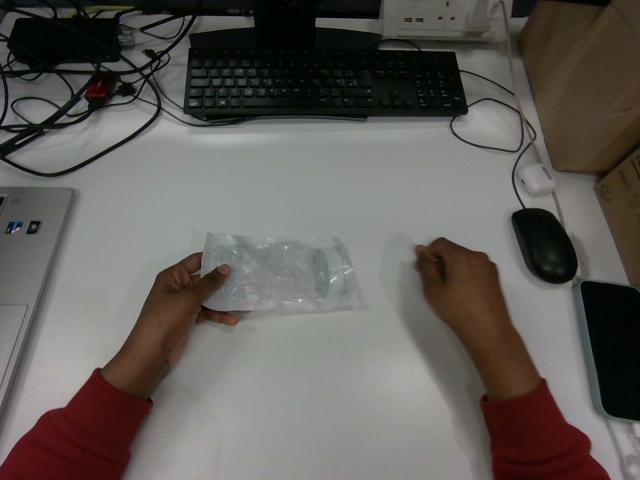gallipot: (201, 233, 362, 312)
